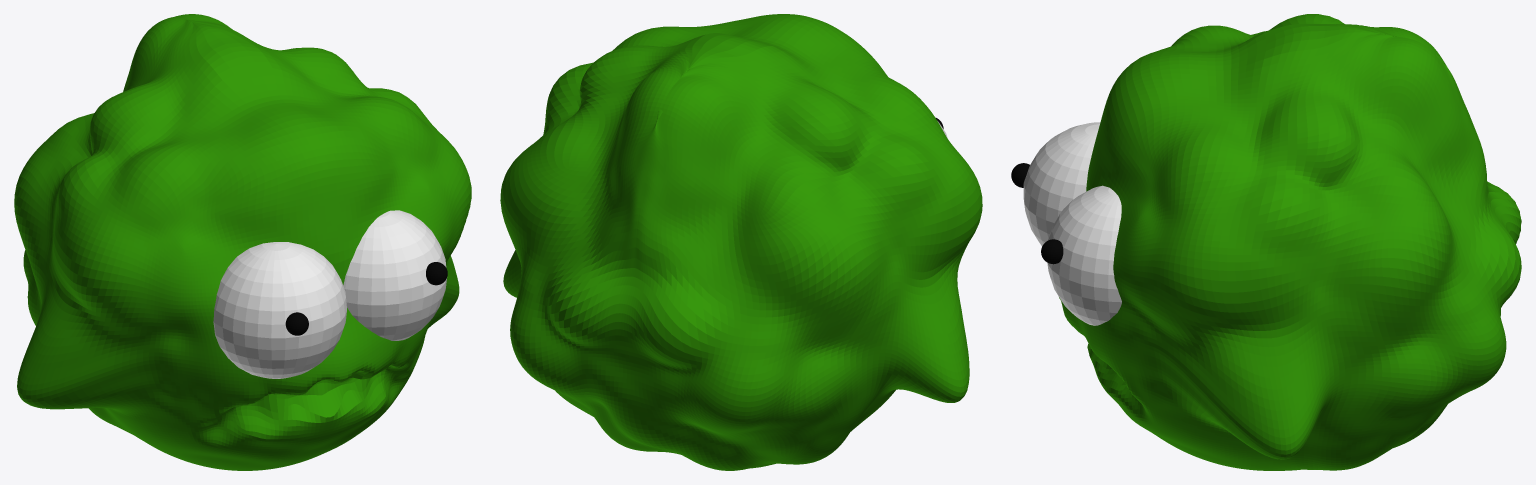
The model's file is BUshie_the_villain.fbx.
3 renders of one model, left to right at view 1: azimuth 30°, elevation 25°; view 2: azimuth 150°, elevation 25°; view 3: azimuth 270°, elevation 25°, orthographic. The views are drawn at different scales.
Visible parts, largest first — view 1: Quad Sphere, Sphere, Sphere.001; view 2: Quad Sphere; view 3: Quad Sphere, Sphere.001, Sphere.
Part boxes in pixels (x1,y1,x2,y2): Quad Sphere: (14,14,471,470); Sphere: (213,242,346,378); Sphere.001: (343,210,446,340); Quad Sphere: (500,14,982,470); Quad Sphere: (1059,14,1521,470); Sphere.001: (1047,185,1121,325); Sphere: (1023,122,1100,246).
Bounding box in the file's own units: 347 × 303 × 331.
